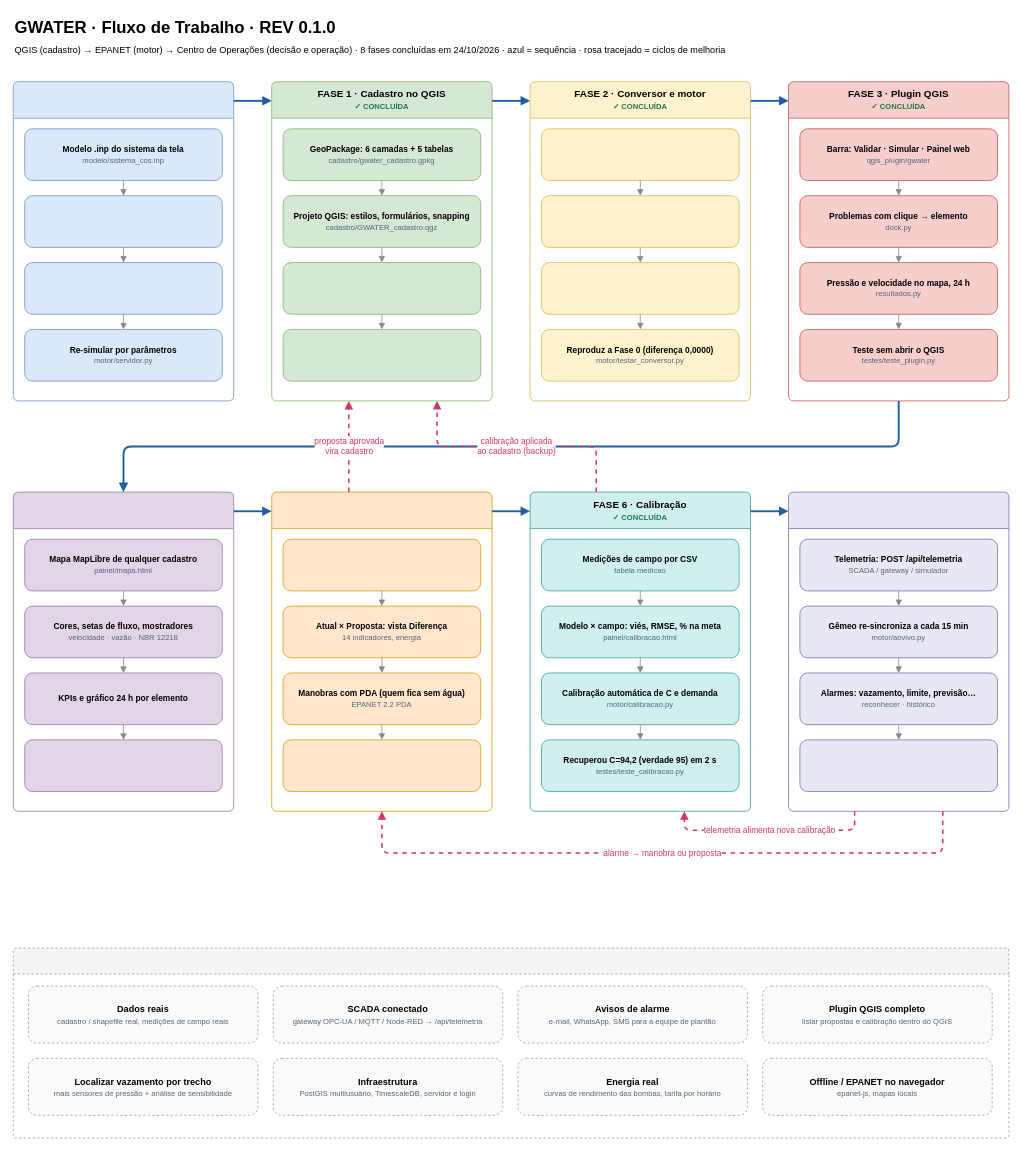
Some shapes in this 1022 by 1151 pixel diagram are drawn without their labels. The shapes that lost their labels are listed below. From the top down, each one's box as (x1, y1, x2, y2) in pixels, then its label:
(541, 128, 739, 180): Cadastro → .inp com validação motor/cadastro_para_inp.py
(24, 195, 222, 247): Simulação 24 h no EPANET (WNTR) motor/simular.py
(13, 81, 234, 401): FASE 0 · Prova de conceito ✓ CONCLUÍDA
(541, 195, 739, 247): Importador de shapefile motor/importar_shp.py
(24, 262, 222, 314): Tela do COS lendo dados reais painel/index.html
(282, 262, 481, 314): Código, comprimento e nós automáticos expressões do formulário
(541, 262, 739, 314): Folgas, T não segmentado, cotas, demanda testes/teste_importacao.py
(282, 329, 481, 381): Rede de exemplo georreferenciada SIRGAS 2000 / UTM 23S
(282, 538, 481, 591): Alterar DN, status, setpoint, demanda editor no mapa
(13, 491, 234, 811): FASE 4 · Painel web · mapa ✓ CONCLUÍDA
(271, 491, 492, 811): FASE 5 · Cenários e propostas ✓ CONCLUÍDA
(788, 491, 1009, 811): FASE 7 · Ao vivo · gêmeo digital ✓ CONCLUÍDA
(24, 739, 222, 792): Rede em GeoJSON pela API motor/rede_geojson.py
(282, 739, 481, 792): Propostas salvas no GeoPackage motor/cenarios.py
(799, 739, 998, 792): Vazamento às 10:00 detectado às 10:15 testes/teste_aovivo.py
(13, 947, 1009, 1138): PRÓXIMOS PASSOS
